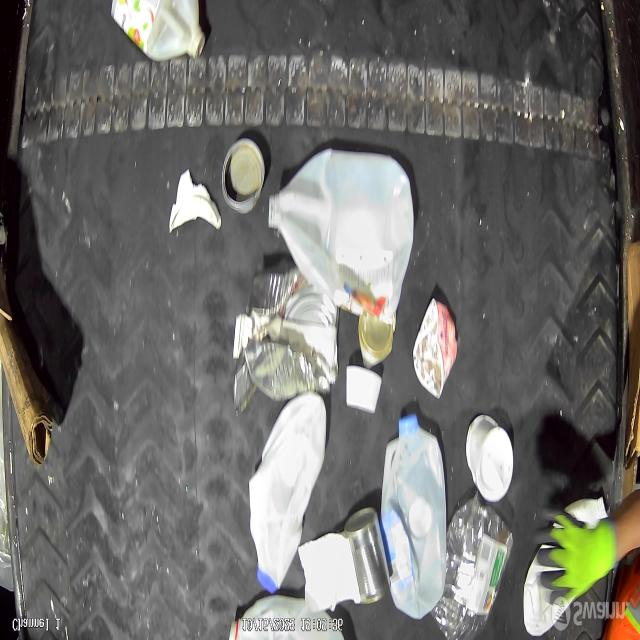can: (242, 260, 342, 399), (343, 505, 392, 607), (221, 136, 266, 216), (357, 314, 395, 370)
milk_jug: (267, 148, 416, 323), (247, 392, 329, 602), (379, 408, 450, 622), (111, 0, 208, 68), (228, 592, 346, 640)
